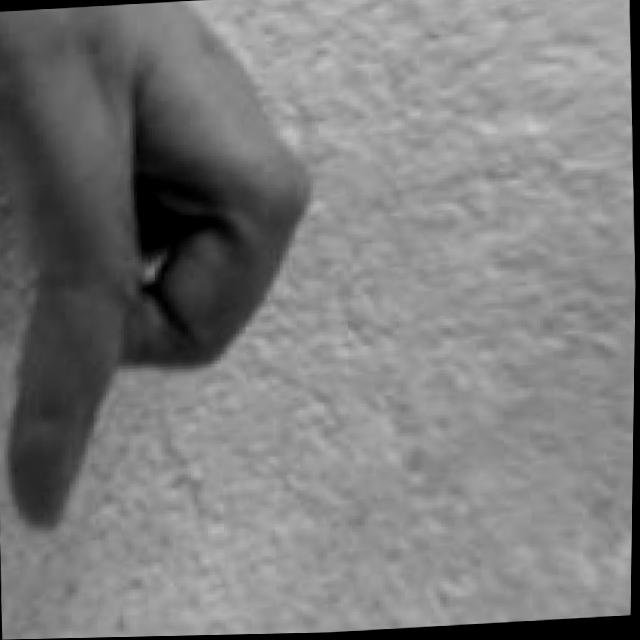P: (0, 0, 330, 536)
